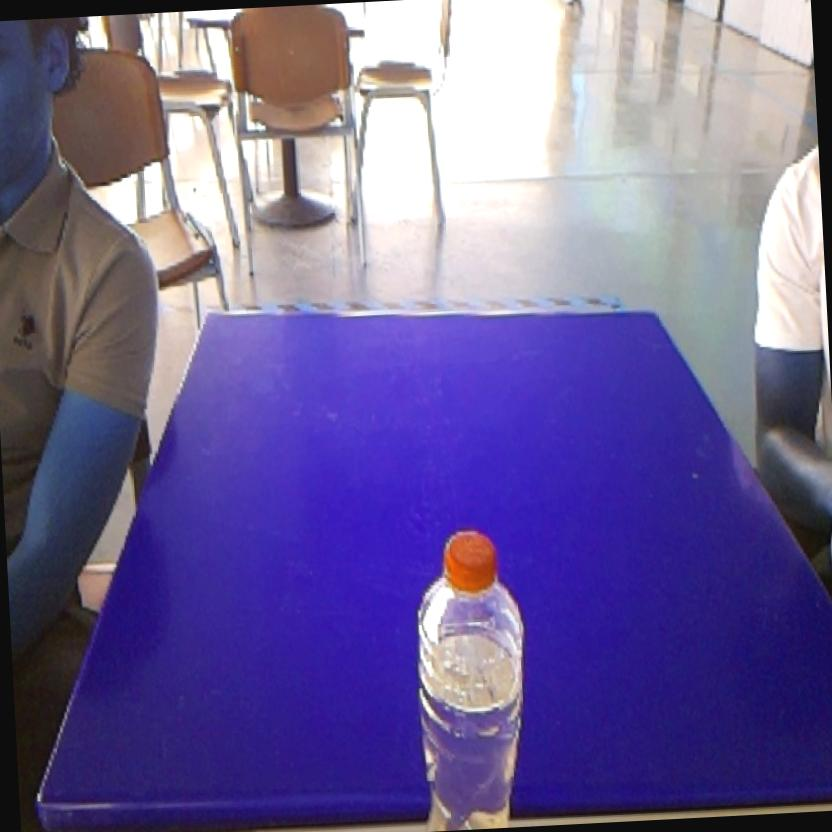no_label: (398, 516, 542, 826)
